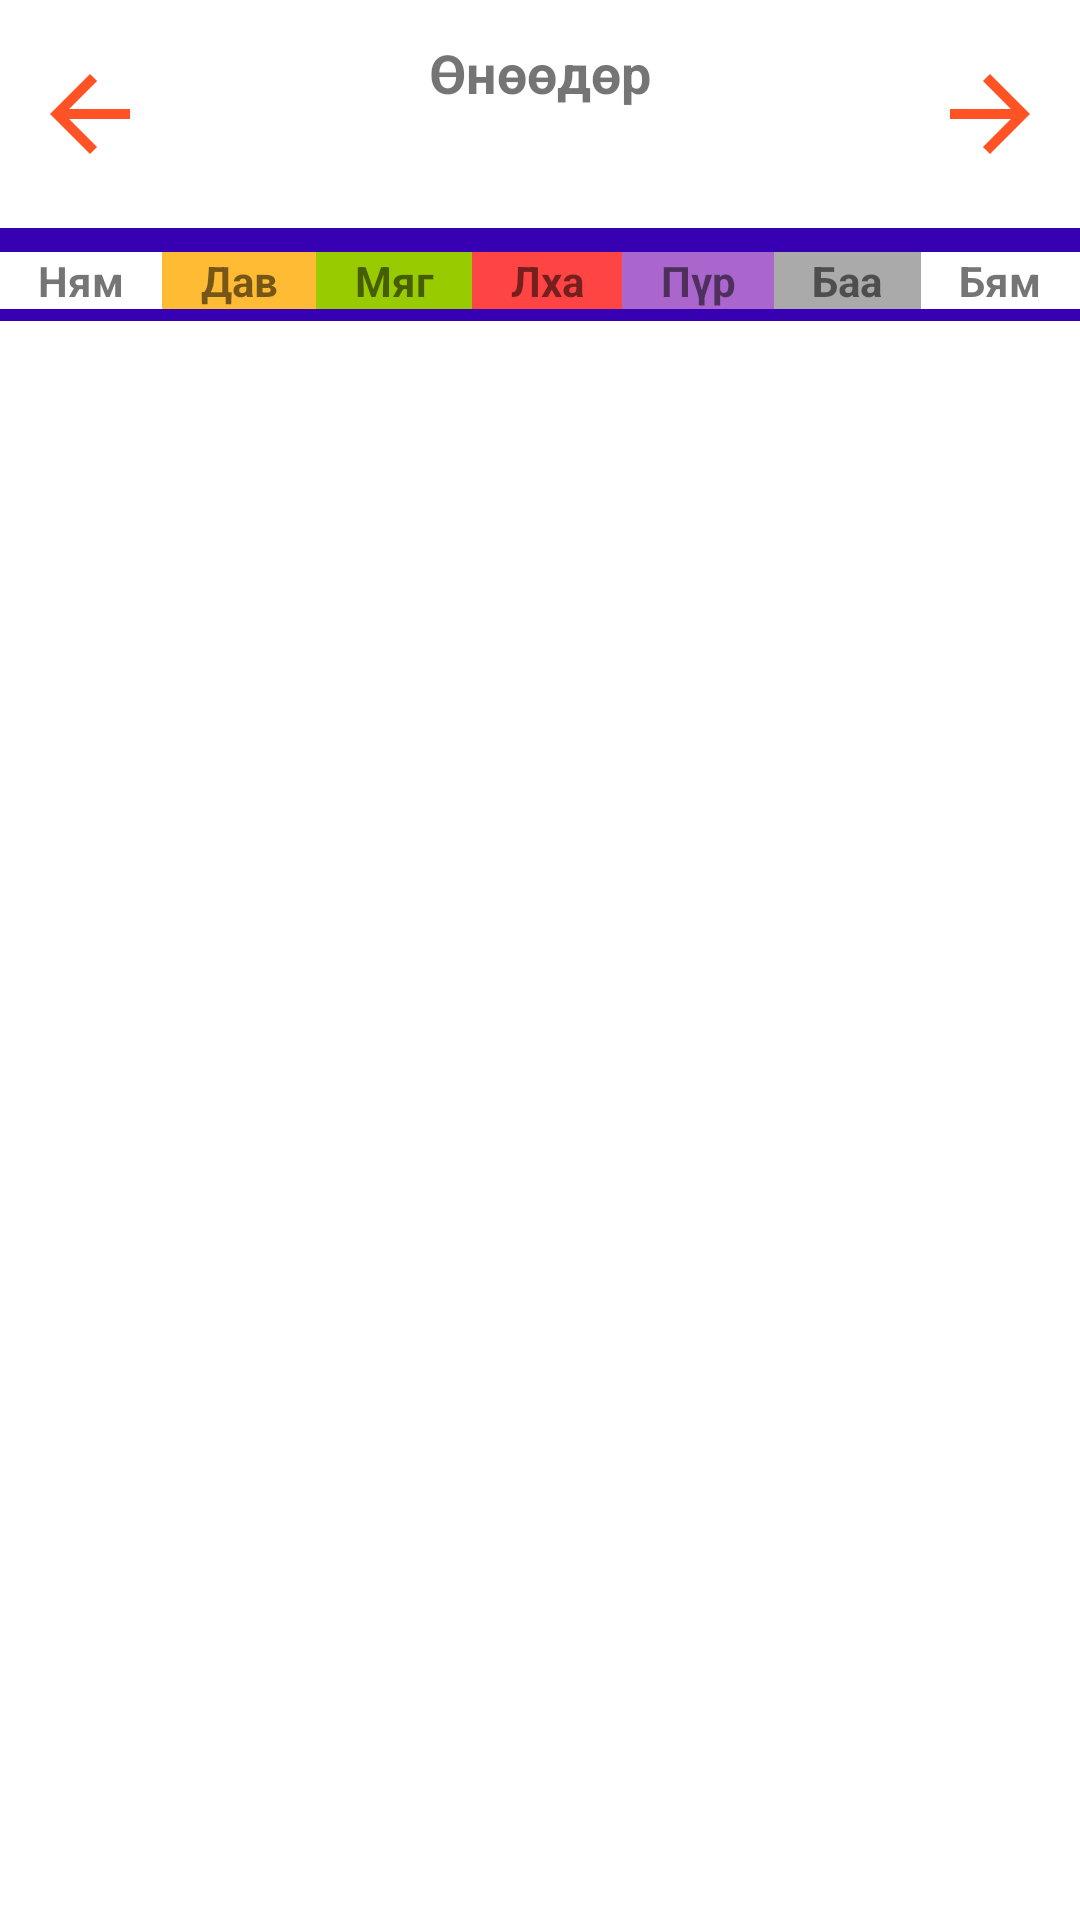

Point at icon controls on the screen. Image size 1080 × 1920, points as [x,y].
arrow back: [90,114]
arrow forward: [990,114]
